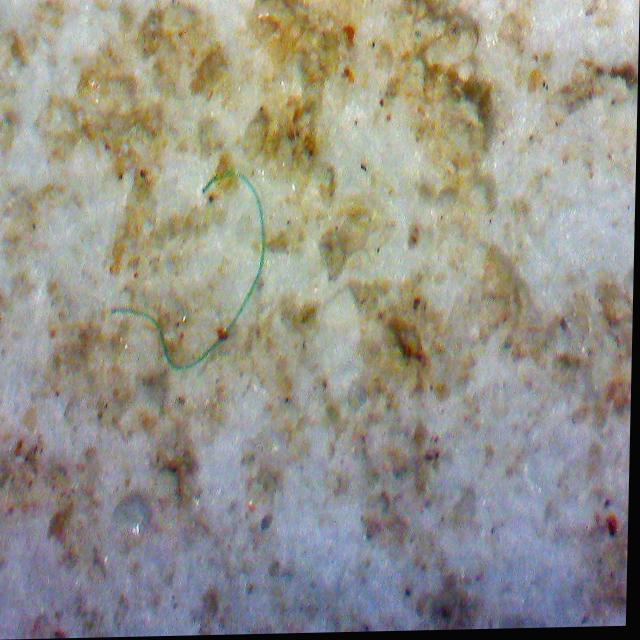microplastic: (105, 159, 313, 384)
